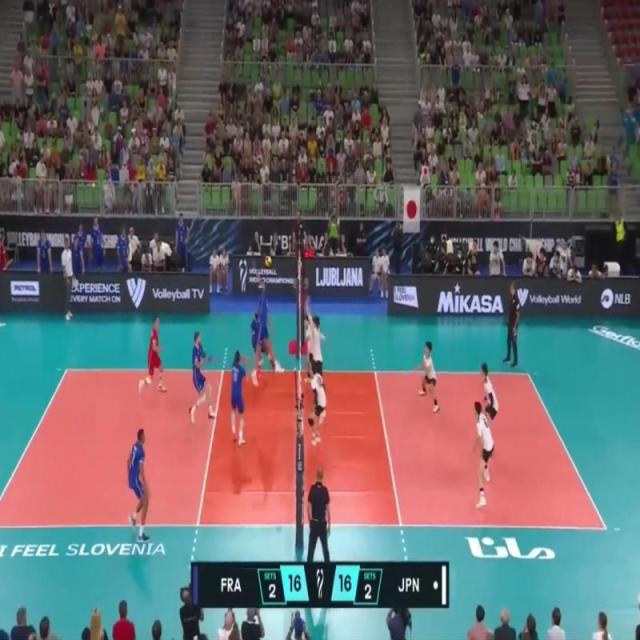volleyball: (265, 255, 272, 268)
